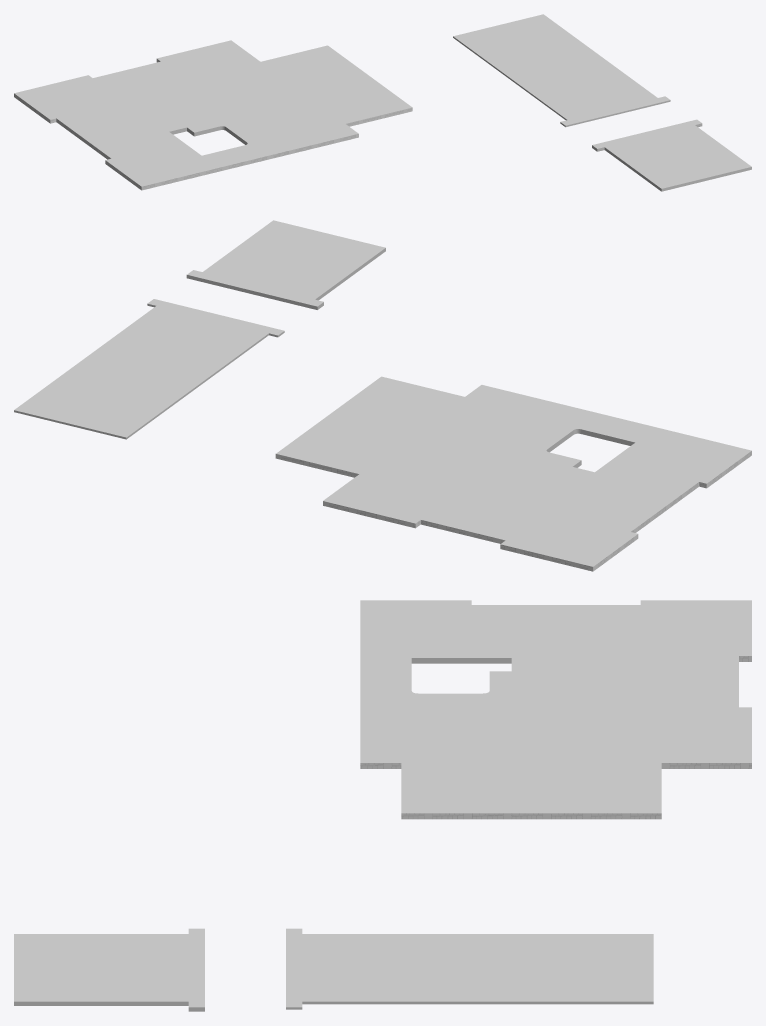
File: Storey__FirstFloor__ProposedFloors__MeshModel__.glb
3 renders of one model, top to bottom at view 1: azimuth 30°, elevation 25°; view 2: azimuth 150°, elevation 25°; view 3: azimuth 270°, elevation 25°, orthographic. The views are drawn at different scales.
Visible parts, largest first — view 1: 22__ProposedBuilding__Floors::Default, 22__ProposedBuilding__Floors::MAT000E__Masonry__StoneworkPat; view 2: 22__ProposedBuilding__Floors::Default, 22__ProposedBuilding__Floors::MAT000E__Masonry__StoneworkPat; view 3: 22__ProposedBuilding__Floors::Default, 22__ProposedBuilding__Floors::MAT000E__Masonry__StoneworkPat.
Part boxes in pixels (x1,y1,x2,y2): 22__ProposedBuilding__Floors::Default: (14, 14, 751, 191); 22__ProposedBuilding__Floors::MAT000E__Masonry__StoneworkPat: (14, 59, 412, 190); 22__ProposedBuilding__Floors::Default: (14, 220, 751, 566); 22__ProposedBuilding__Floors::MAT000E__Masonry__StoneworkPat: (275, 451, 751, 571); 22__ProposedBuilding__Floors::Default: (14, 600, 751, 1011); 22__ProposedBuilding__Floors::MAT000E__Masonry__StoneworkPat: (360, 656, 751, 819).
Size of the model in its own units: 41.32 by 1.7 by 34.1.
2 materials, 1 textured.
